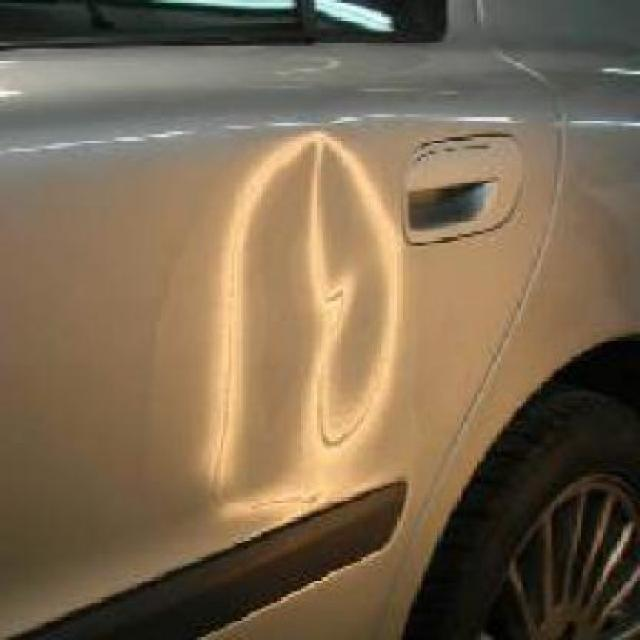dent-or-scratch: (205, 131, 393, 517)
